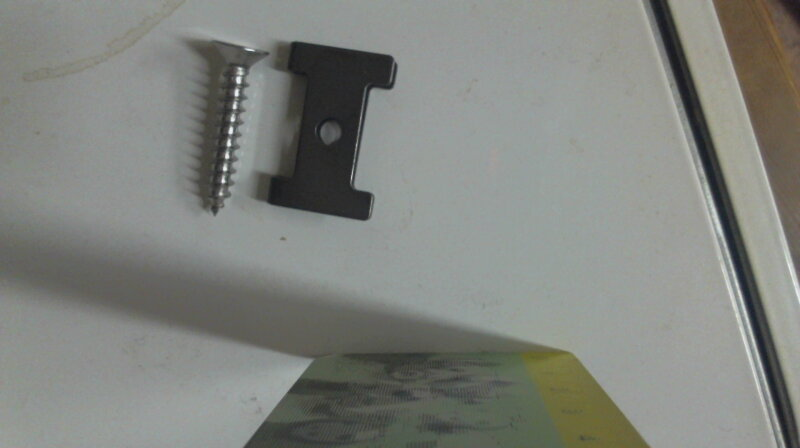O002: (268, 39, 396, 217)
S001: (203, 35, 269, 225)
